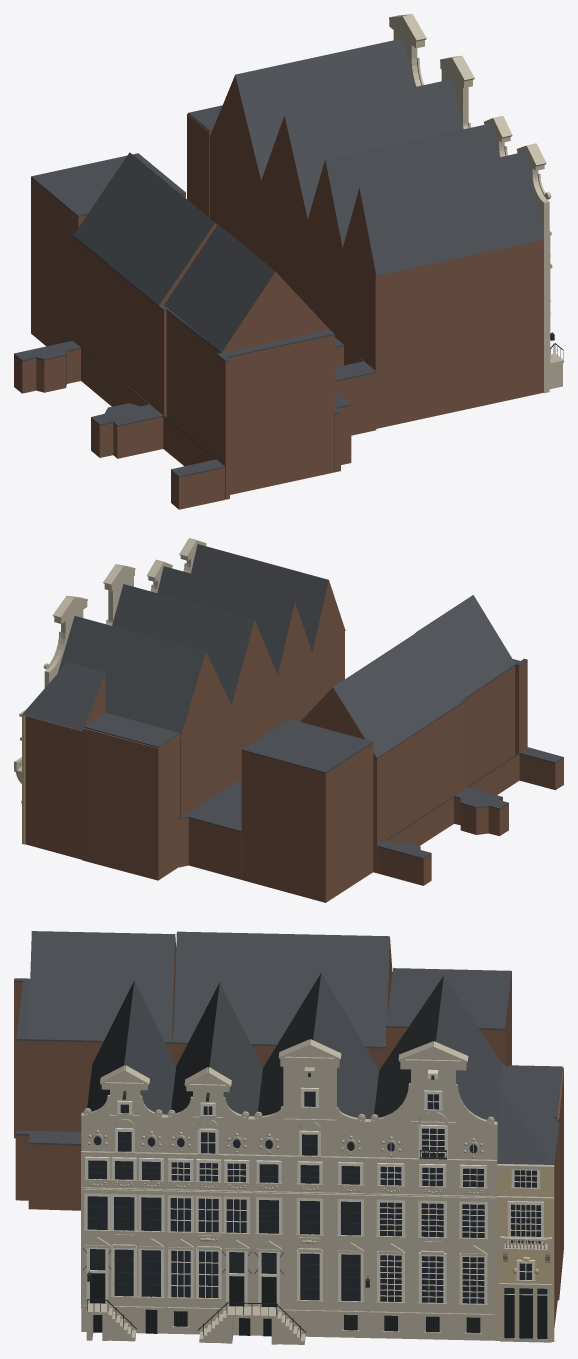
File: cromhouthuizen.glb
3 views of the same model, one above another, from view 1: azimuth 30°, elevation 25°; view 2: azimuth 150°, elevation 25°; view 3: azimuth 270°, elevation 25° (orthographic). The views are drawn at different scales.
Visible parts, largest first — view 1: cromhouthuizen; view 2: cromhouthuizen; view 3: cromhouthuizen.
Part boxes in pixels (left/top/right/bottom): cromhouthuizen: left=14, top=14, right=563, bottom=509; cromhouthuizen: left=14, top=538, right=563, bottom=902; cromhouthuizen: left=14, top=931, right=563, bottom=1344.
Size of the model in its own units: 39.62 by 22.69 by 38.29.
